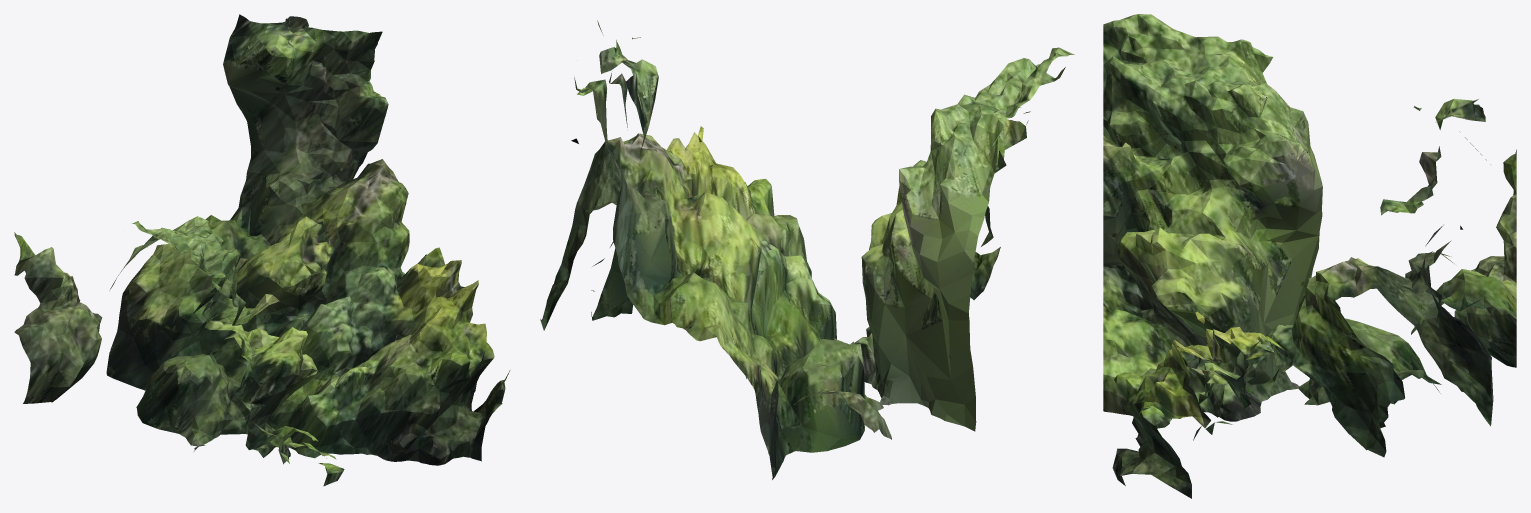
The picture shows the model from 3 angles, left to right: view 1: azimuth 30°, elevation 25°; view 2: azimuth 150°, elevation 25°; view 3: azimuth 270°, elevation 25°; orthographic projection. The views are drawn at different scales.
Size of the model in its own units: 26.11 by 26.11 by 26.11.
6 materials, 6 textured.
